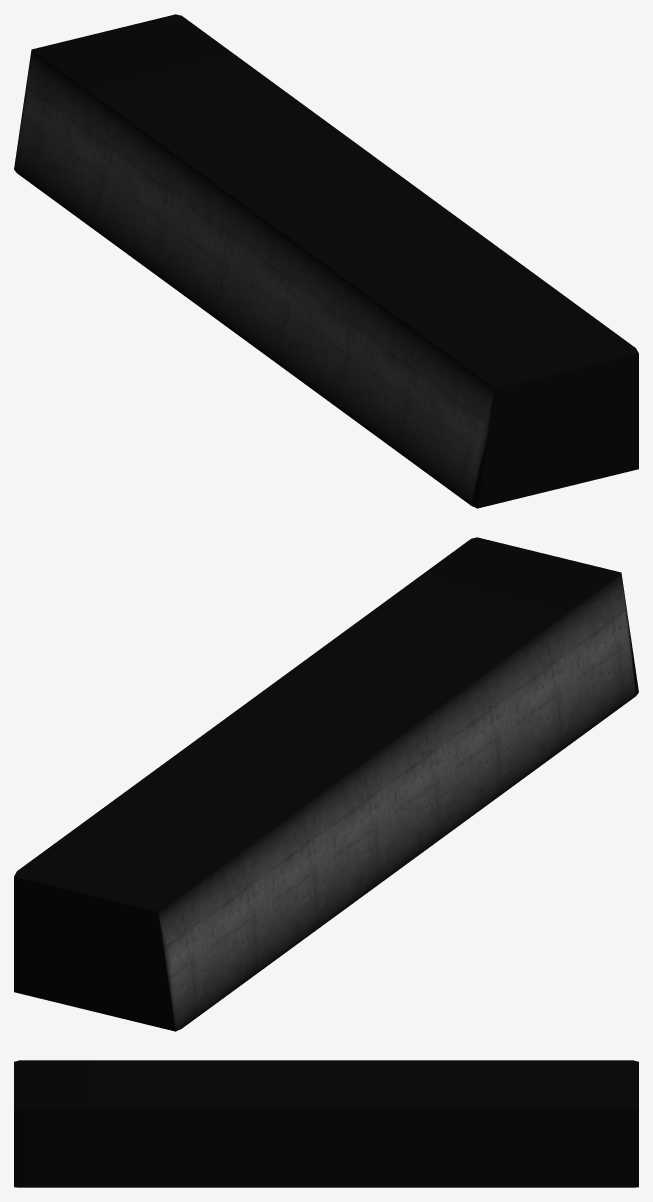
The model's file is AMB_DOTE_KONKURI.glb.
3 renders of one model, top to bottom at view 1: azimuth 30°, elevation 25°; view 2: azimuth 150°, elevation 25°; view 3: azimuth 270°, elevation 25°, orthographic. The views are drawn at different scales.
Visible parts, largest first — view 1: Mesh1; view 2: Mesh1; view 3: Mesh1.
Boxes of the visible parts, x1=… form: Mesh1: x1=14, y1=14, x2=638, y2=508; Mesh1: x1=14, y1=537, x2=638, y2=1031; Mesh1: x1=14, y1=1060, x2=638, y2=1187.
Bounding box in the file's own units: 20.96 × 14.24 × 102.
Materials: 1 (1 with a texture image).
